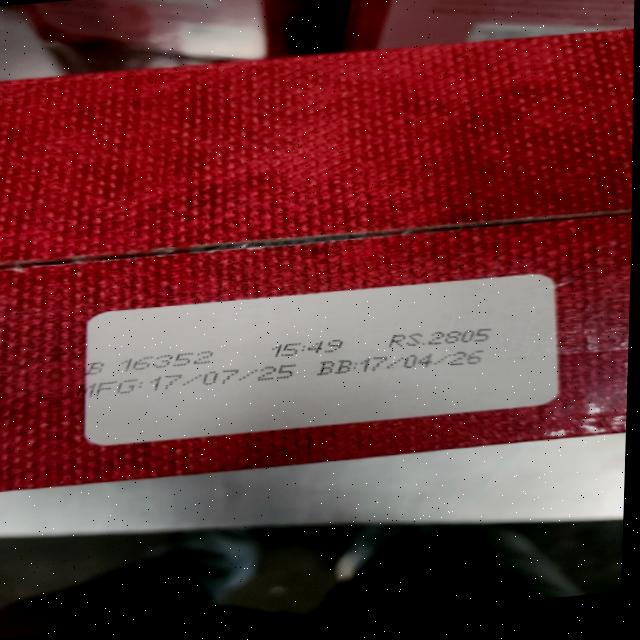BB: (314, 347, 485, 378)
Batch: (83, 350, 217, 375)
MFG: (84, 362, 298, 398)
RS: (388, 325, 496, 348)
TimeStamp: (269, 338, 348, 358)
